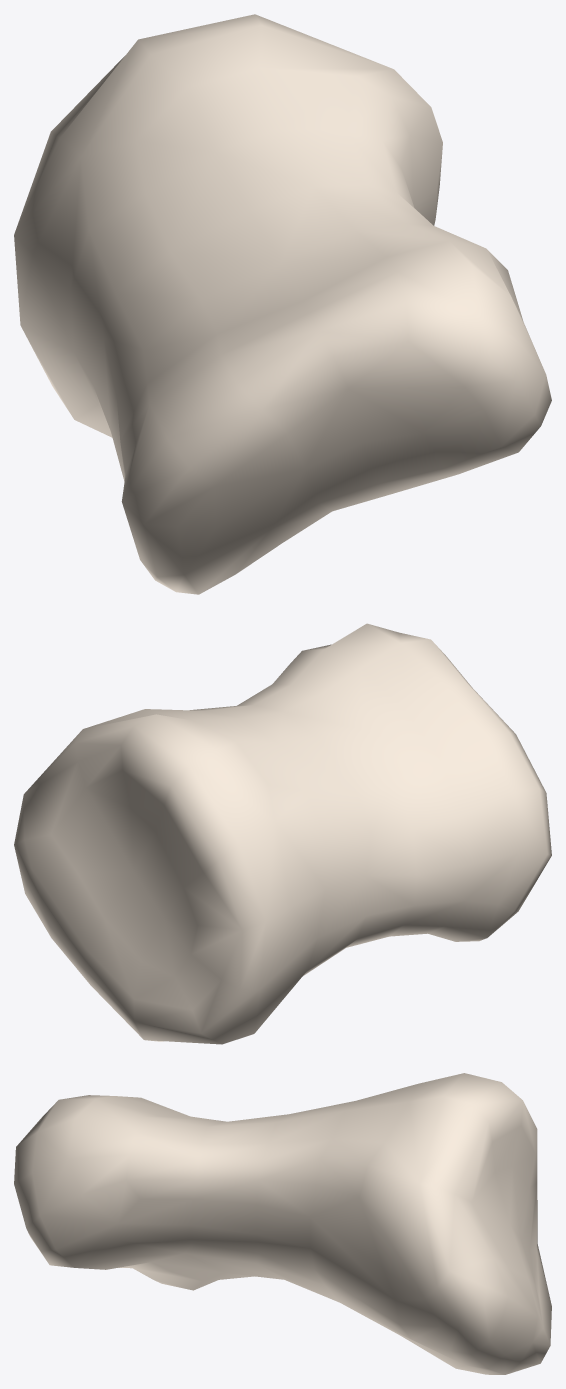
File: right_toe_4_middle.glb
3 renders of one model, top to bottom at view 1: azimuth 30°, elevation 25°; view 2: azimuth 150°, elevation 25°; view 3: azimuth 270°, elevation 25°, orthographic. The views are drawn at different scales.
Visible parts, largest first — view 1: Middle phalanx of fourth finger of foot.r; view 2: Middle phalanx of fourth finger of foot.r; view 3: Middle phalanx of fourth finger of foot.r.
Boxes of the visible parts, x1,y1,x2,y2 form: Middle phalanx of fourth finger of foot.r: [14, 14, 551, 594]; Middle phalanx of fourth finger of foot.r: [14, 623, 551, 1044]; Middle phalanx of fourth finger of foot.r: [14, 1073, 551, 1374].
Bounding box in the file's own units: 0.0112 × 0.00826 × 0.0137.
